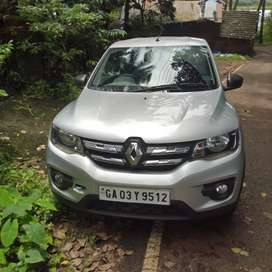GA03Y9512: (99, 185, 170, 205)
